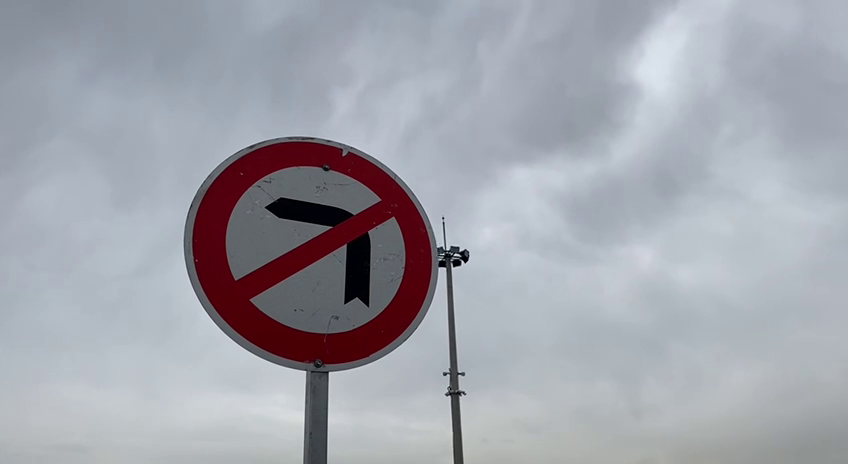noTurnLeft: (177, 132, 445, 378)
